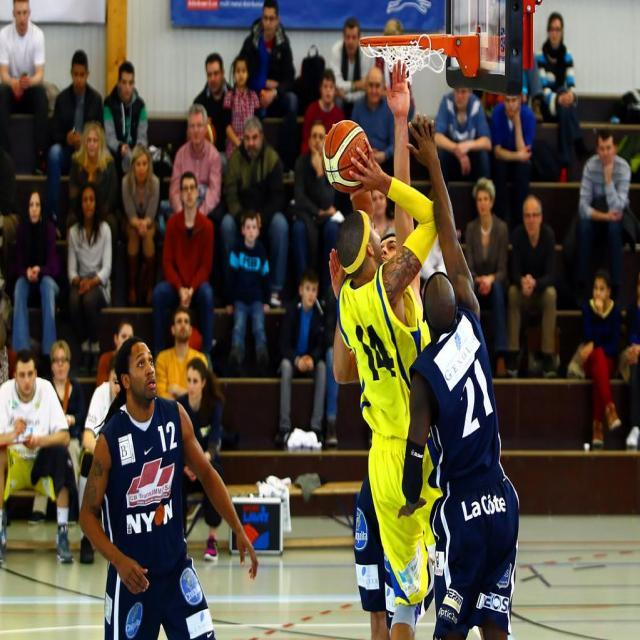rim: (325, 122, 372, 192)
